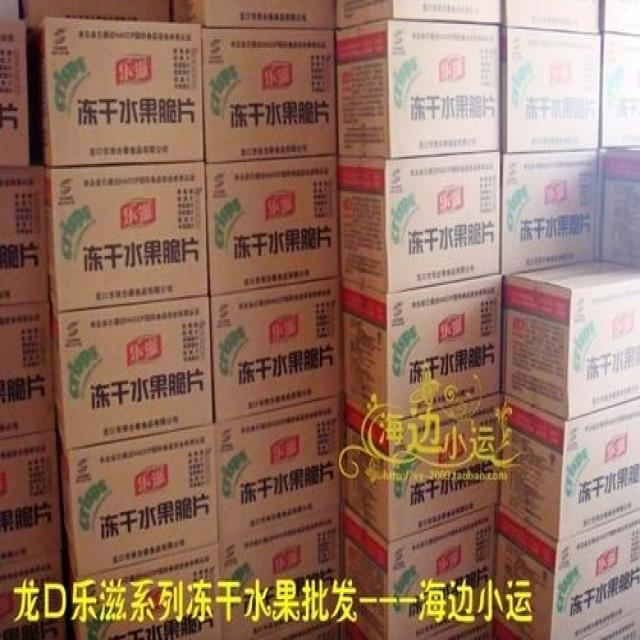box: (28, 14, 204, 169), (46, 292, 215, 450), (56, 423, 221, 577), (42, 162, 209, 310), (337, 148, 503, 293), (343, 391, 504, 540), (342, 273, 503, 420), (335, 21, 502, 158), (503, 255, 639, 421), (342, 500, 500, 635), (500, 392, 639, 542), (209, 275, 343, 425), (494, 502, 639, 637), (215, 394, 344, 543), (204, 154, 341, 294), (203, 26, 339, 162), (62, 522, 220, 638), (219, 507, 343, 638), (501, 26, 604, 151), (503, 148, 603, 273), (0, 429, 63, 609), (0, 295, 57, 437), (0, 163, 48, 302), (334, 1, 504, 31), (601, 147, 639, 270), (344, 608, 494, 638), (492, 608, 639, 638), (0, 21, 30, 164), (172, 2, 336, 28), (602, 35, 639, 148), (21, 4, 172, 31), (0, 590, 72, 638), (502, 3, 603, 34), (604, 0, 639, 35), (292, 617, 343, 638)
